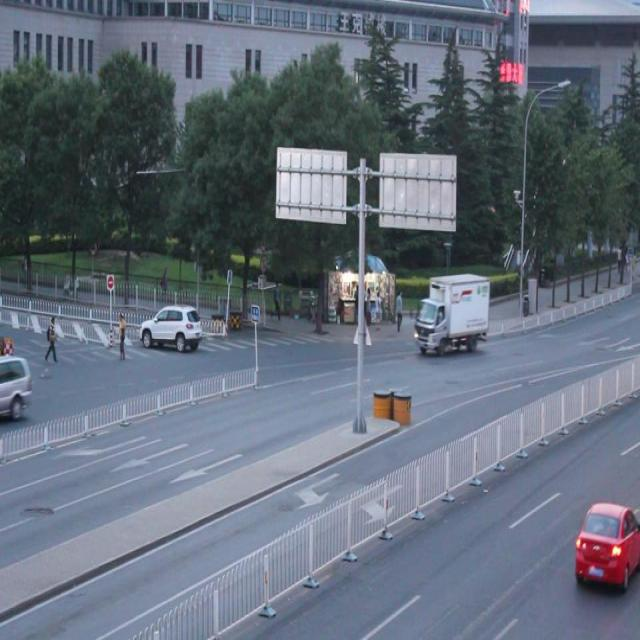bus: (415, 276, 488, 356)
car: (572, 500, 640, 589), (138, 302, 201, 350), (1, 353, 31, 426)
